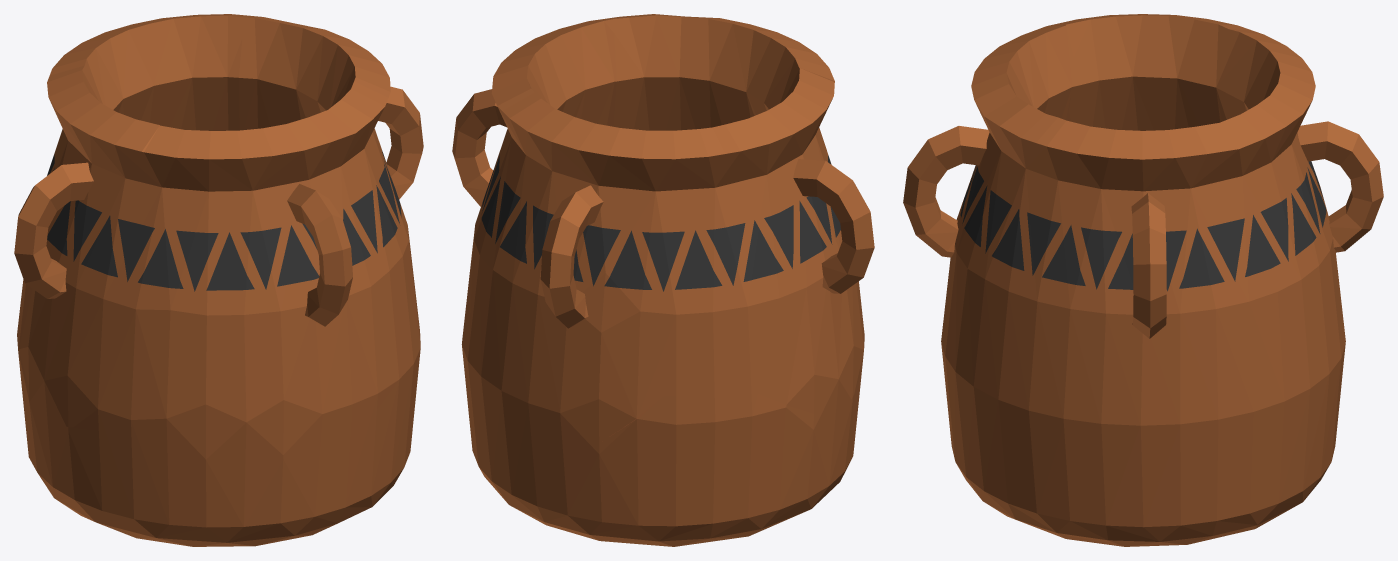
Rendered from Pottery 20_2b.fbx.
3 renders of one model, left to right at view 1: azimuth 30°, elevation 25°; view 2: azimuth 150°, elevation 25°; view 3: azimuth 270°, elevation 25°, orthographic.
Parts seen in each view (by area): view 1: Pottery 20_2b.001, Pottery 20_2b.004, Pottery 20_2b, Pottery 20_2b.002, Pottery 20_2b.003; view 2: Pottery 20_2b.003, Pottery 20_2b, Pottery 20_2b.004, Pottery 20_2b.001, Pottery 20_2b.002; view 3: Pottery 20_2b.002, Pottery 20_2b, Pottery 20_2b.001, Pottery 20_2b.003, Pottery 20_2b.004.
Part boxes in pixels (bbox=[...]): Pottery 20_2b.001: bbox=[142, 81, 415, 463]; Pottery 20_2b.004: bbox=[14, 65, 191, 430]; Pottery 20_2b: bbox=[17, 296, 420, 546]; Pottery 20_2b.002: bbox=[239, 15, 423, 330]; Pottery 20_2b.003: bbox=[49, 14, 248, 130]; Pottery 20_2b.003: bbox=[473, 92, 738, 464]; Pottery 20_2b: bbox=[464, 325, 861, 546]; Pottery 20_2b.004: bbox=[712, 68, 874, 418]; Pottery 20_2b.001: bbox=[603, 14, 834, 144]; Pottery 20_2b.002: bbox=[452, 19, 616, 369]; Pottery 20_2b.002: bbox=[1019, 111, 1295, 475]; Pottery 20_2b: bbox=[946, 345, 1340, 546]; Pottery 20_2b.001: bbox=[903, 24, 1079, 391]; Pottery 20_2b.003: bbox=[1216, 29, 1383, 399]; Pottery 20_2b.004: bbox=[1049, 14, 1250, 130].
Size of the model in its own units: 62.86 by 59.48 by 62.86.
